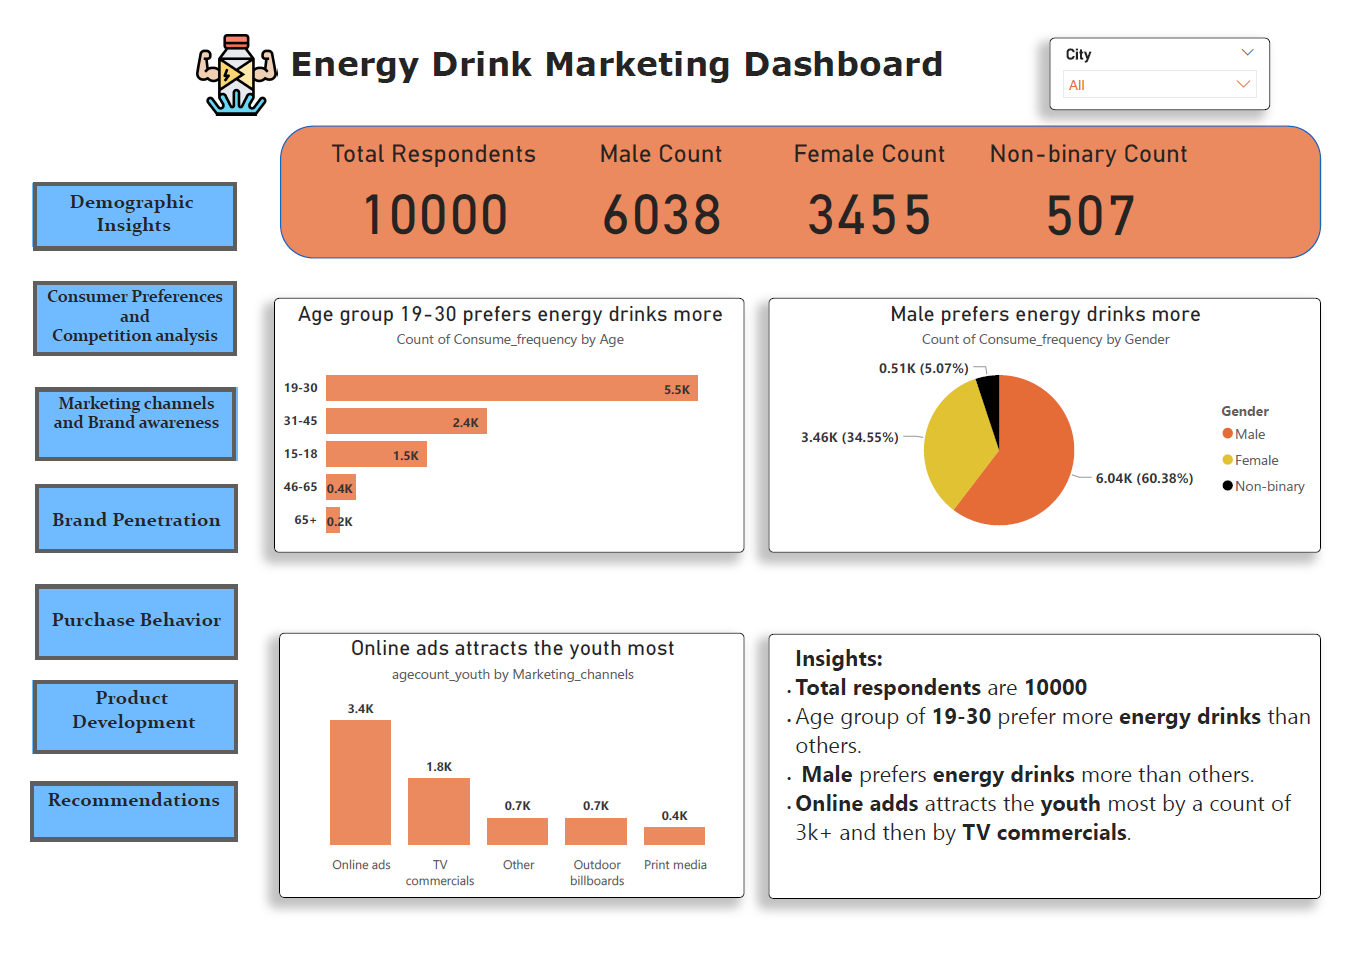

The dashboard page shown, as its layout file describes it:
{"tool":"powerbi","page":{"name":"Demographic insights","canvas":[1280,900],"ordinal":0},"visuals":[{"type":"columnChart","title":"Online ads attracts the  youth most","fields":{"Y":["dim_repondents.agecount_youth"],"Category":["fact_survey_responses.Marketing_channels"]},"box":[251.1,592.8,448.7,256.6],"z":0},{"type":"clusteredBarChart","title":" Age group 19-30 prefers energy drinks more","fields":{"Category":["dim_repondents.Age"],"Y":["CountNonNull(fact_survey_responses.Consume_frequency)"]},"box":[245.6,270.3,454.2,245.6],"z":1000},{"type":"shape","box":[252.5,104.3,1003.1,127.6],"z":2000},{"type":"pieChart","title":"Male prefers energy drinks more","fields":{"Category":["dim_repondents.Gender"],"Y":["CountNonNull(fact_survey_responses.Consume_frequency)"]},"box":[722.9,270,532.9,245.7],"z":3000},{"type":"card","title":"Total Respondents","fields":{"Values":["CountNonNull(dim_repondents.Name)"]},"box":[293.7,116.6,212.7,104.3],"z":4000},{"type":"card","title":" Male Count","fields":{"Values":["dim_repondents.Male_count"]},"box":[526,116.6,186.6,104.3],"z":5000},{"type":"card","title":"Female Count","fields":{"Values":["dim_repondents.Femalecount"]},"box":[732.3,117.1,177,103.8],"z":6000},{"type":"textbox","box":[722.9,594.3,532.9,255.7],"z":7000},{"type":"image","box":[155.7,11.4,108.6,87.1],"z":8000},{"type":"textbox","box":[245.7,18.6,662.9,70],"z":9000},{"type":"slicer","fields":{"Values":["dim_repondents.City"]},"box":[994.3,18.6,212.9,70],"z":10000},{"type":"textbox","box":[12.9,160,195.7,61.4],"z":11000},{"type":"textbox","box":[14.3,254.3,195.7,71.4],"z":12000},{"type":"actionButton","box":[14.3,254.3,195.7,71.4],"z":13000},{"type":"card","title":"Non-binary Count","fields":{"Values":["Measurestable.nonbinarycount"]},"box":[928.9,117.1,206.3,105.1],"z":14000},{"type":"actionButton","box":[14.3,158.6,195.7,65.7],"z":15000},{"type":"textbox","box":[15.7,357.1,195.7,70],"z":16000},{"type":"textbox","box":[15.7,450,195.7,65.7],"z":17000},{"type":"textbox","box":[15.7,547.1,195.7,71.4],"z":18000},{"type":"textbox","box":[12.9,638.6,195.7,71.4],"z":19000},{"type":"textbox","box":[12.9,737.1,195.7,57.1],"z":20000},{"type":"actionButton","box":[15.7,357.1,192.9,70],"z":21000},{"type":"actionButton","box":[15.7,450,195.7,65.7],"z":22000},{"type":"actionButton","box":[15.7,547.1,195.7,71.4],"z":23000},{"type":"actionButton","box":[14.3,638.6,197.1,71.4],"z":24000},{"type":"actionButton","box":[11.4,737.1,200,57.1],"z":25000}]}

Visuals, with their boxes in screenshot pixels (x1, y1, x2, y2), scaled from the page's 1280x900 canvas onto the 1365x967 screenshot:
"Online ads attracts the  youth most" columnChart: bbox=(268, 637, 746, 913)
" Age group 19-30 prefers energy drinks more" clusteredBarChart: bbox=(262, 290, 746, 554)
shape: bbox=(269, 112, 1339, 249)
"Male prefers energy drinks more" pieChart: bbox=(771, 290, 1339, 554)
"Total Respondents" card: bbox=(313, 125, 540, 237)
" Male Count" card: bbox=(561, 125, 760, 237)
"Female Count" card: bbox=(781, 126, 970, 237)
textbox: bbox=(771, 639, 1339, 913)
image: bbox=(166, 12, 282, 106)
textbox: bbox=(262, 20, 969, 95)
slicer - dim_repondents.City: bbox=(1060, 20, 1287, 95)
textbox: bbox=(14, 172, 222, 238)
textbox: bbox=(15, 273, 224, 350)
actionButton: bbox=(15, 273, 224, 350)
"Non-binary Count" card: bbox=(991, 126, 1211, 239)
actionButton: bbox=(15, 170, 224, 241)
textbox: bbox=(17, 384, 225, 459)
textbox: bbox=(17, 484, 225, 554)
textbox: bbox=(17, 588, 225, 665)
textbox: bbox=(14, 686, 222, 763)
textbox: bbox=(14, 792, 222, 853)
actionButton: bbox=(17, 384, 222, 459)
actionButton: bbox=(17, 484, 225, 554)
actionButton: bbox=(17, 588, 225, 665)
actionButton: bbox=(15, 686, 225, 763)
actionButton: bbox=(12, 792, 225, 853)
